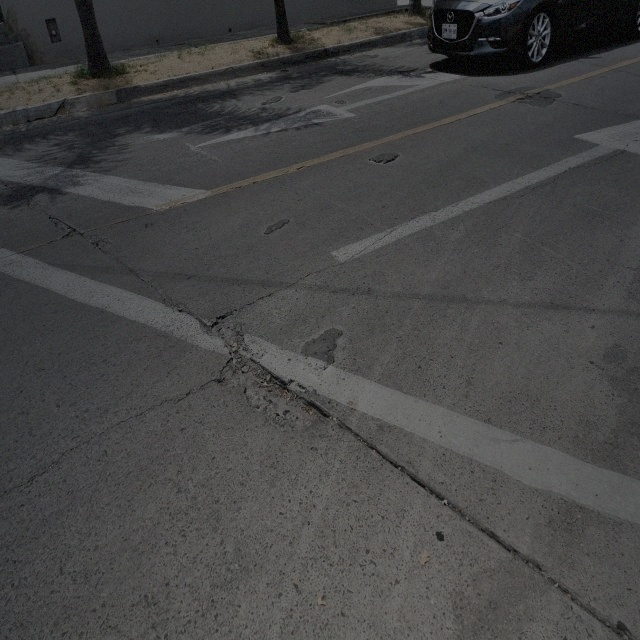pothole: (223, 349, 324, 445), (210, 313, 244, 354), (63, 229, 83, 238)
